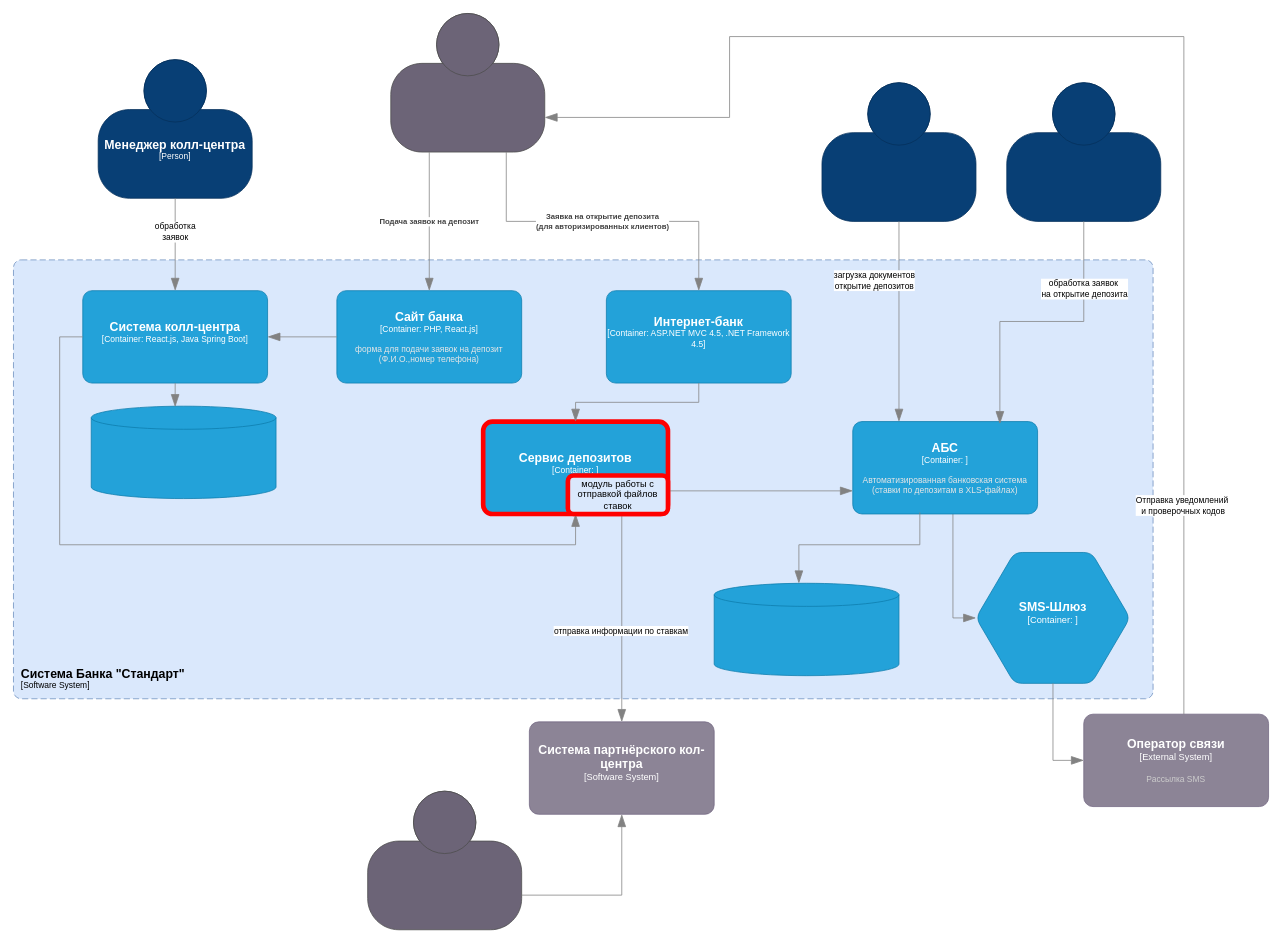
This 1282x943 diagram has some shape labels left out. Here are the shapes that lost their labels. From the top down, the box of each, then its label:
(390, 13, 545, 152): Клиент банка [Person]
(821, 82, 976, 221): Менеджер отделения банка [Person]
(1006, 82, 1161, 221): Менеджер бэк-офиса [Person]
(90, 405, 276, 499): БД [Container: PostgreSQL] БД заявок
(713, 583, 899, 676): База Данных АБС [Container: MS SQL] БД договоров, бухгалтерии, операций, ...
(367, 790, 522, 930): Сотрудник партнёрского кол-центра [External Person]
